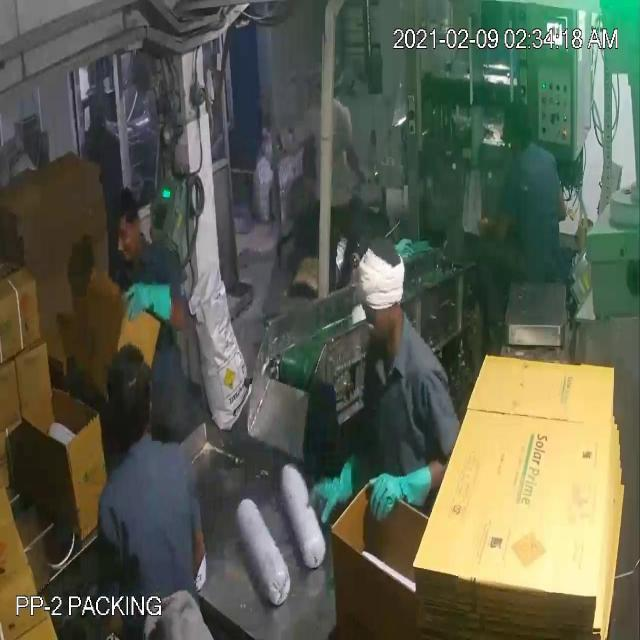Gloves: (67, 63, 399, 494)
